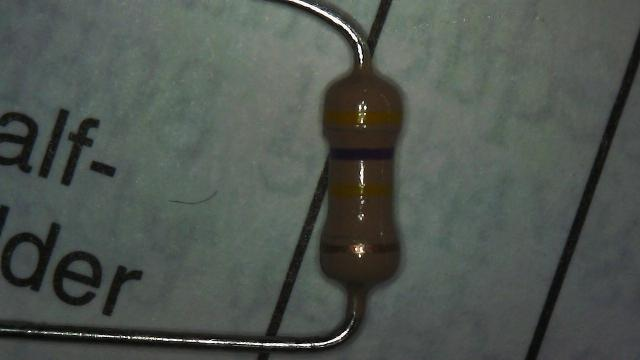gold: (320, 243, 400, 253)
resistor: (305, 51, 412, 305)
violet: (330, 147, 394, 161)
yellow: (324, 110, 402, 124), (330, 182, 392, 197)
